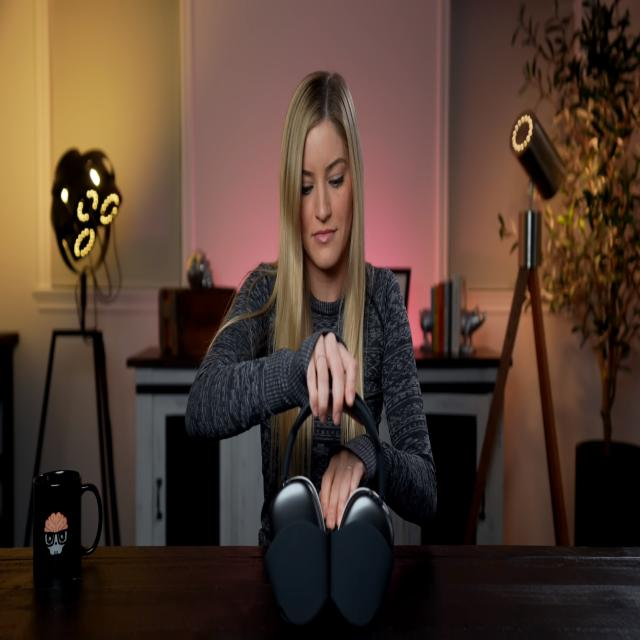Headphone: (256, 387, 396, 632)
